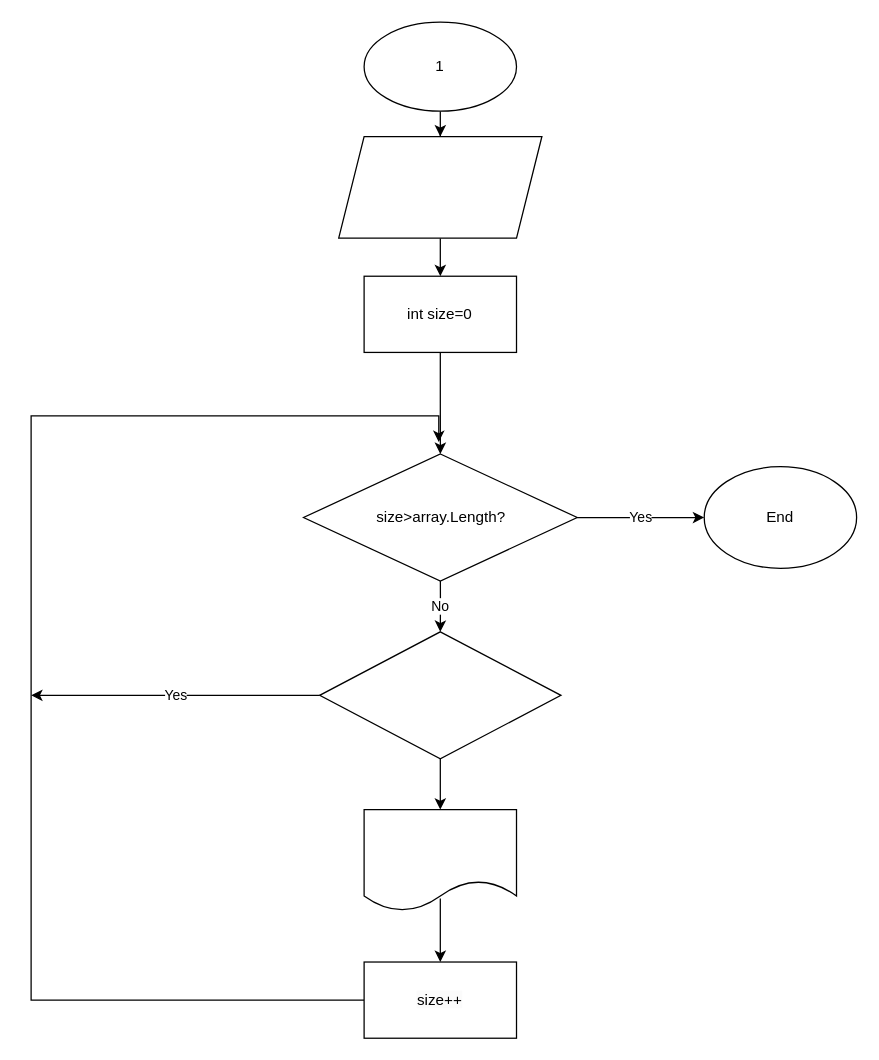
This 879x1060 diagram has some shape labels left out. The shapes that lost their labels are listed below. From the top down, each one's box as (x1, y1, x2, y2) in pixels, then its label:
(337, 135, 542, 238): string[]array
(318, 631, 561, 759): value.Length>3?
(363, 808, 517, 911): Print array[size]
